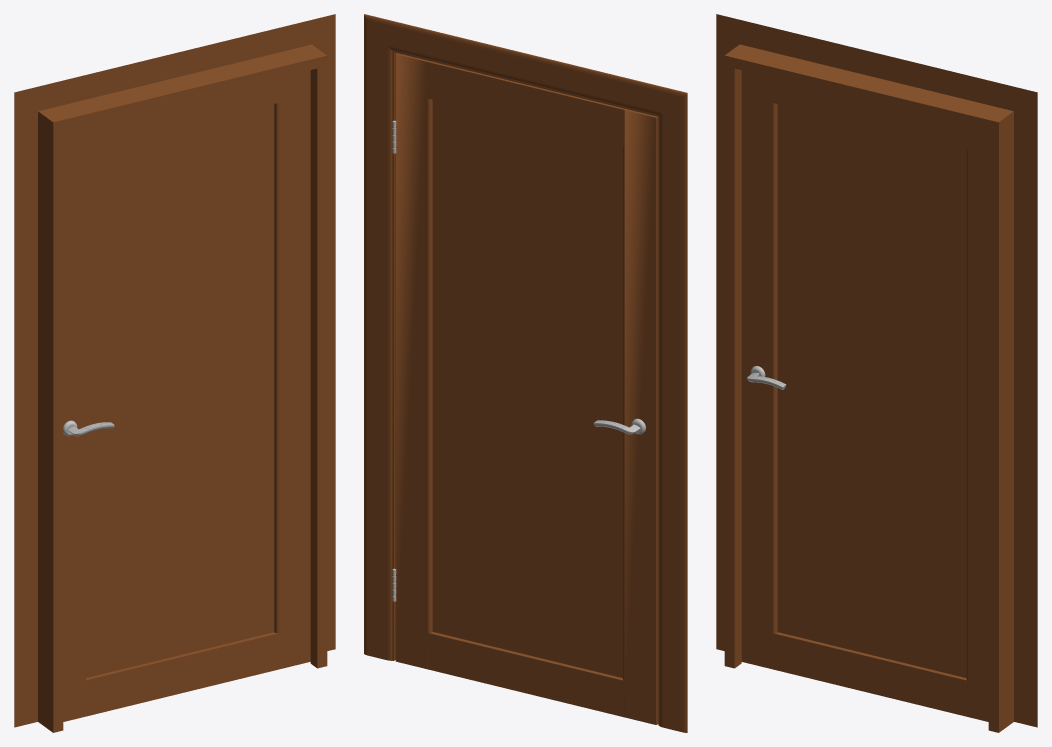
Rendered from door4Draco.gltf.
The picture shows the model from 3 angles, left to right: view 1: azimuth 30°, elevation 25°; view 2: azimuth 150°, elevation 25°; view 3: azimuth 330°, elevation 25°; orthographic projection.
Visible parts, largest first — view 1: vstavka, ramaVert, polotnoVert, ramaGorizont, polotnoGorizont; view 2: vstavka, polotnoVert, ramaVert, polotnoGorizont, ramaGorizont; view 3: vstavka, ramaVert, polotnoVert, ramaGorizont, polotnoGorizont.
Part boxes in pixels (bbox=[...]): vstavka: bbox=[85, 104, 274, 677]; ramaVert: bbox=[14, 14, 335, 732]; polotnoVert: bbox=[63, 70, 310, 721]; ramaGorizont: bbox=[15, 14, 335, 130]; polotnoGorizont: bbox=[84, 78, 279, 716]; vstavka: bbox=[432, 100, 622, 677]; polotnoVert: bbox=[395, 53, 658, 724]; ramaVert: bbox=[364, 14, 687, 732]; polotnoGorizont: bbox=[427, 61, 624, 717]; ramaGorizont: bbox=[364, 14, 687, 116]; vstavka: bbox=[777, 104, 966, 677]; ramaVert: bbox=[716, 14, 1037, 732]; polotnoVert: bbox=[741, 70, 988, 721]; ramaGorizont: bbox=[716, 14, 1036, 130]; polotnoGorizont: bbox=[772, 78, 967, 716].
Size of the model in its own units: 1.12 by 2.11 by 0.1633.
